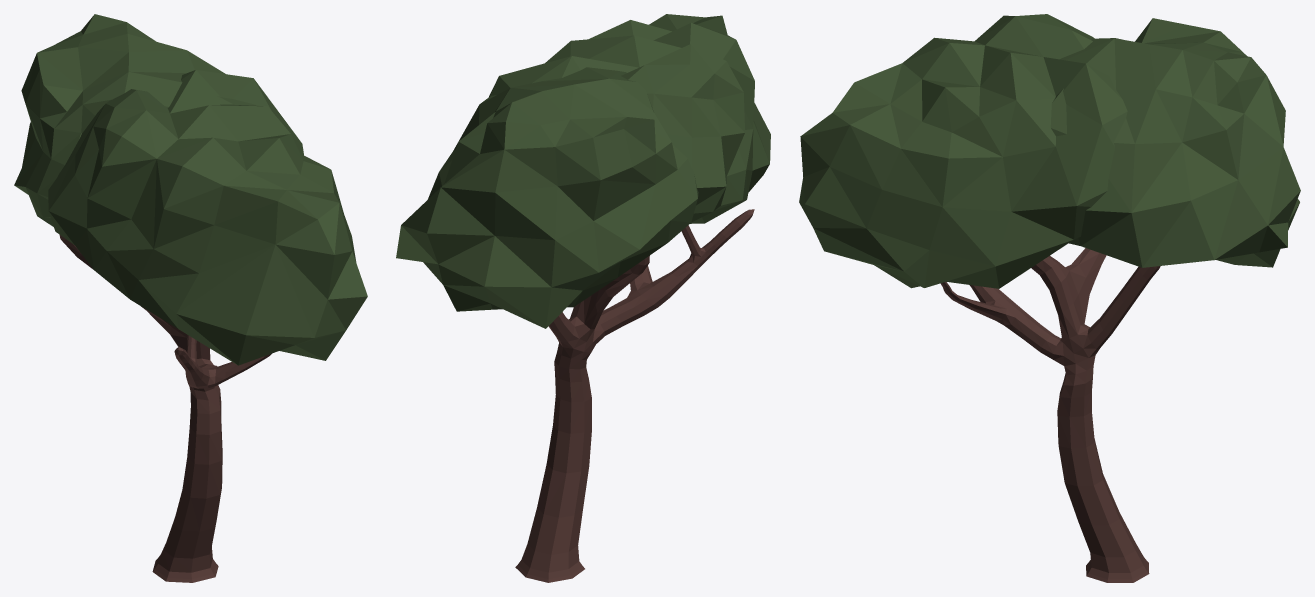
Rendered from CommonTree_5.glb.
The picture shows the model from 3 angles, left to right: view 1: azimuth 30°, elevation 25°; view 2: azimuth 150°, elevation 25°; view 3: azimuth 270°, elevation 25°; orthographic projection. The views are drawn at different scales.
Visible parts, largest first — view 1: CommonTree_5; view 2: CommonTree_5; view 3: CommonTree_5.
Boxes of the visible parts, x1,y1,x2,y2 form: CommonTree_5: (14, 14, 367, 582); CommonTree_5: (396, 14, 770, 582); CommonTree_5: (799, 14, 1300, 582).
Size of the model in its own units: 1.29 by 2.53 by 2.25.
